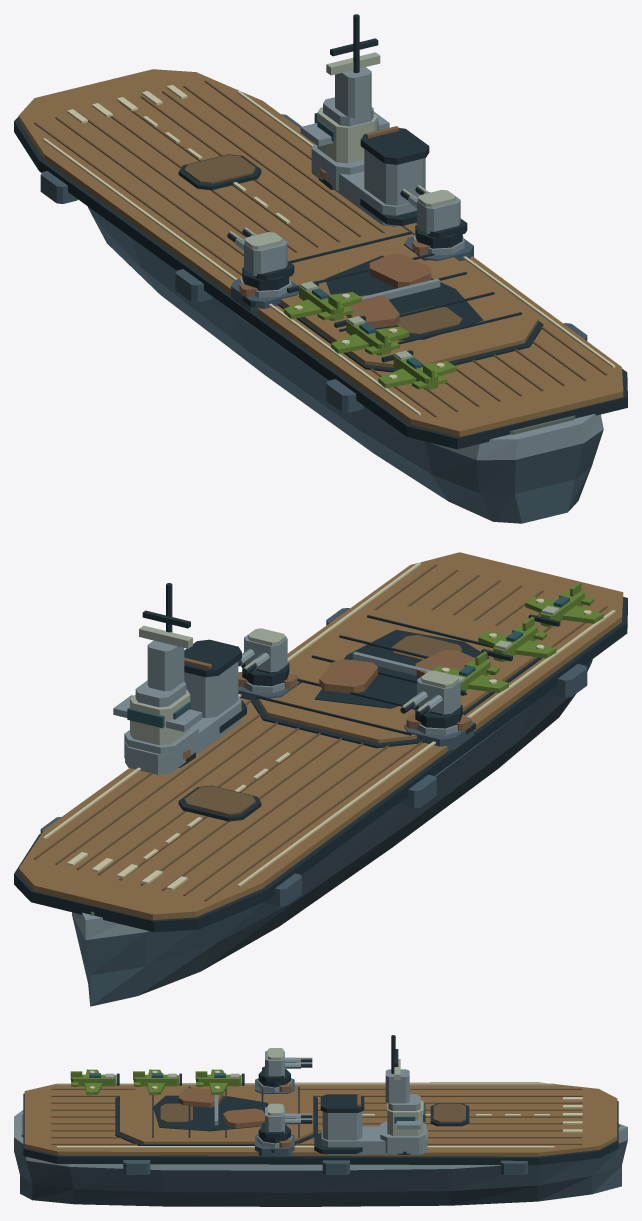
File: historic-casablanca.glb
3 views of the same model, one above another, from view 1: azimuth 30°, elevation 25°; view 2: azimuth 150°, elevation 25°; view 3: azimuth 270°, elevation 25° (orthographic). The views are drawn at different scales.
Parts seen in each view (by area): view 1: historic-casablanca-historic-casablanca-geometry, historic-casablanca-part_flight-deck.028-geometry, historic-casablanca-part_bridge.086-geometry, historic-casablanca-ruin_flight-deck.027-geometry, historic-casablanca-historic_funnel_0.084-geometry, historic-casablanca-turret_aa_aa-port.090-geometry, historic-casablanca-turret_aa_aa-starboard.086-geometry, historic-casablanca-aircraft_lift_0.028-geometry, historic-casablanca-parked_aircraft_1.028-geometry, historic-casablanca-parked_aircraft_0.028-geometry, historic-casablanca-parked_aircraft_2.028-geometry, historic-casablanca-aircraft_lift_1.027-geometry (+2 smaller); view 2: historic-casablanca-historic-casablanca-geometry, historic-casablanca-part_flight-deck.028-geometry, historic-casablanca-part_bridge.086-geometry, historic-casablanca-ruin_flight-deck.027-geometry, historic-casablanca-historic_funnel_0.084-geometry, historic-casablanca-turret_aa_aa-port.090-geometry, historic-casablanca-turret_aa_aa-starboard.086-geometry, historic-casablanca-aircraft_lift_0.028-geometry, historic-casablanca-parked_aircraft_0.028-geometry, historic-casablanca-parked_aircraft_1.028-geometry, historic-casablanca-parked_aircraft_2.028-geometry, historic-casablanca-aircraft_lift_1.027-geometry (+2 smaller); view 3: historic-casablanca-historic-casablanca-geometry, historic-casablanca-part_flight-deck.028-geometry, historic-casablanca-historic_funnel_0.084-geometry, historic-casablanca-part_bridge.086-geometry, historic-casablanca-ruin_flight-deck.027-geometry, historic-casablanca-turret_aa_aa-starboard.086-geometry, historic-casablanca-turret_aa_aa-port.090-geometry, historic-casablanca-aircraft_lift_0.028-geometry, historic-casablanca-parked_aircraft_0.028-geometry, historic-casablanca-parked_aircraft_2.028-geometry, historic-casablanca-parked_aircraft_1.028-geometry, historic-casablanca-aircraft_lift_1.027-geometry (+2 smaller).
Boxes of the visible parts, box(x1,y1,x2,y2) form: historic-casablanca-historic-casablanca-geometry: box(14, 69, 627, 523); historic-casablanca-part_flight-deck.028-geometry: box(278, 231, 543, 372); historic-casablanca-part_bridge.086-geometry: box(300, 14, 389, 190); historic-casablanca-ruin_flight-deck.027-geometry: box(325, 254, 483, 340); historic-casablanca-historic_funnel_0.084-geometry: box(312, 126, 429, 226); historic-casablanca-turret_aa_aa-port.090-geometry: box(227, 227, 294, 290); historic-casablanca-turret_aa_aa-starboard.086-geometry: box(400, 185, 467, 248); historic-casablanca-aircraft_lift_0.028-geometry: box(178, 154, 261, 190); historic-casablanca-parked_aircraft_1.028-geometry: box(331, 315, 409, 355); historic-casablanca-parked_aircraft_0.028-geometry: box(378, 350, 456, 390); historic-casablanca-parked_aircraft_2.028-geometry: box(284, 281, 361, 320); historic-casablanca-aircraft_lift_1.027-geometry: box(395, 306, 462, 334); historic-casablanca-historic-casablanca-geometry: box(14, 552, 627, 1006); historic-casablanca-part_flight-deck.028-geometry: box(250, 605, 542, 748); historic-casablanca-part_bridge.086-geometry: box(113, 583, 202, 770); historic-casablanca-ruin_flight-deck.027-geometry: box(314, 629, 489, 708); historic-casablanca-historic_funnel_0.084-geometry: box(125, 639, 246, 774); historic-casablanca-turret_aa_aa-port.090-geometry: box(400, 670, 462, 728); historic-casablanca-turret_aa_aa-starboard.086-geometry: box(238, 628, 289, 686); historic-casablanca-aircraft_lift_0.028-geometry: box(178, 785, 261, 821); historic-casablanca-parked_aircraft_0.028-geometry: box(525, 582, 603, 627); historic-casablanca-parked_aircraft_1.028-geometry: box(478, 616, 556, 661); historic-casablanca-parked_aircraft_2.028-geometry: box(432, 651, 508, 695); historic-casablanca-aircraft_lift_1.027-geometry: box(391, 635, 462, 660); historic-casablanca-historic-casablanca-geometry: box(14, 1082, 627, 1206); historic-casablanca-part_flight-deck.028-geometry: box(115, 1085, 317, 1145); historic-casablanca-historic_funnel_0.084-geometry: box(314, 1094, 427, 1154); historic-casablanca-part_bridge.086-geometry: box(380, 1035, 426, 1153); historic-casablanca-ruin_flight-deck.027-geometry: box(153, 1088, 268, 1131); historic-casablanca-turret_aa_aa-starboard.086-geometry: box(258, 1103, 312, 1143); historic-casablanca-turret_aa_aa-port.090-geometry: box(258, 1048, 312, 1087); historic-casablanca-aircraft_lift_0.028-geometry: box(430, 1103, 469, 1126); historic-casablanca-parked_aircraft_0.028-geometry: box(70, 1069, 119, 1095); historic-casablanca-parked_aircraft_2.028-geometry: box(195, 1069, 244, 1095); historic-casablanca-parked_aircraft_1.028-geometry: box(133, 1069, 181, 1095); historic-casablanca-aircraft_lift_1.027-geometry: box(160, 1103, 192, 1122).
Bounding box in the file's own units: 1.85 × 1.92 × 5.89.
